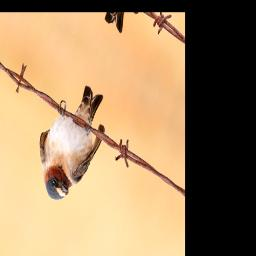Swallow: (27, 64, 113, 220)
